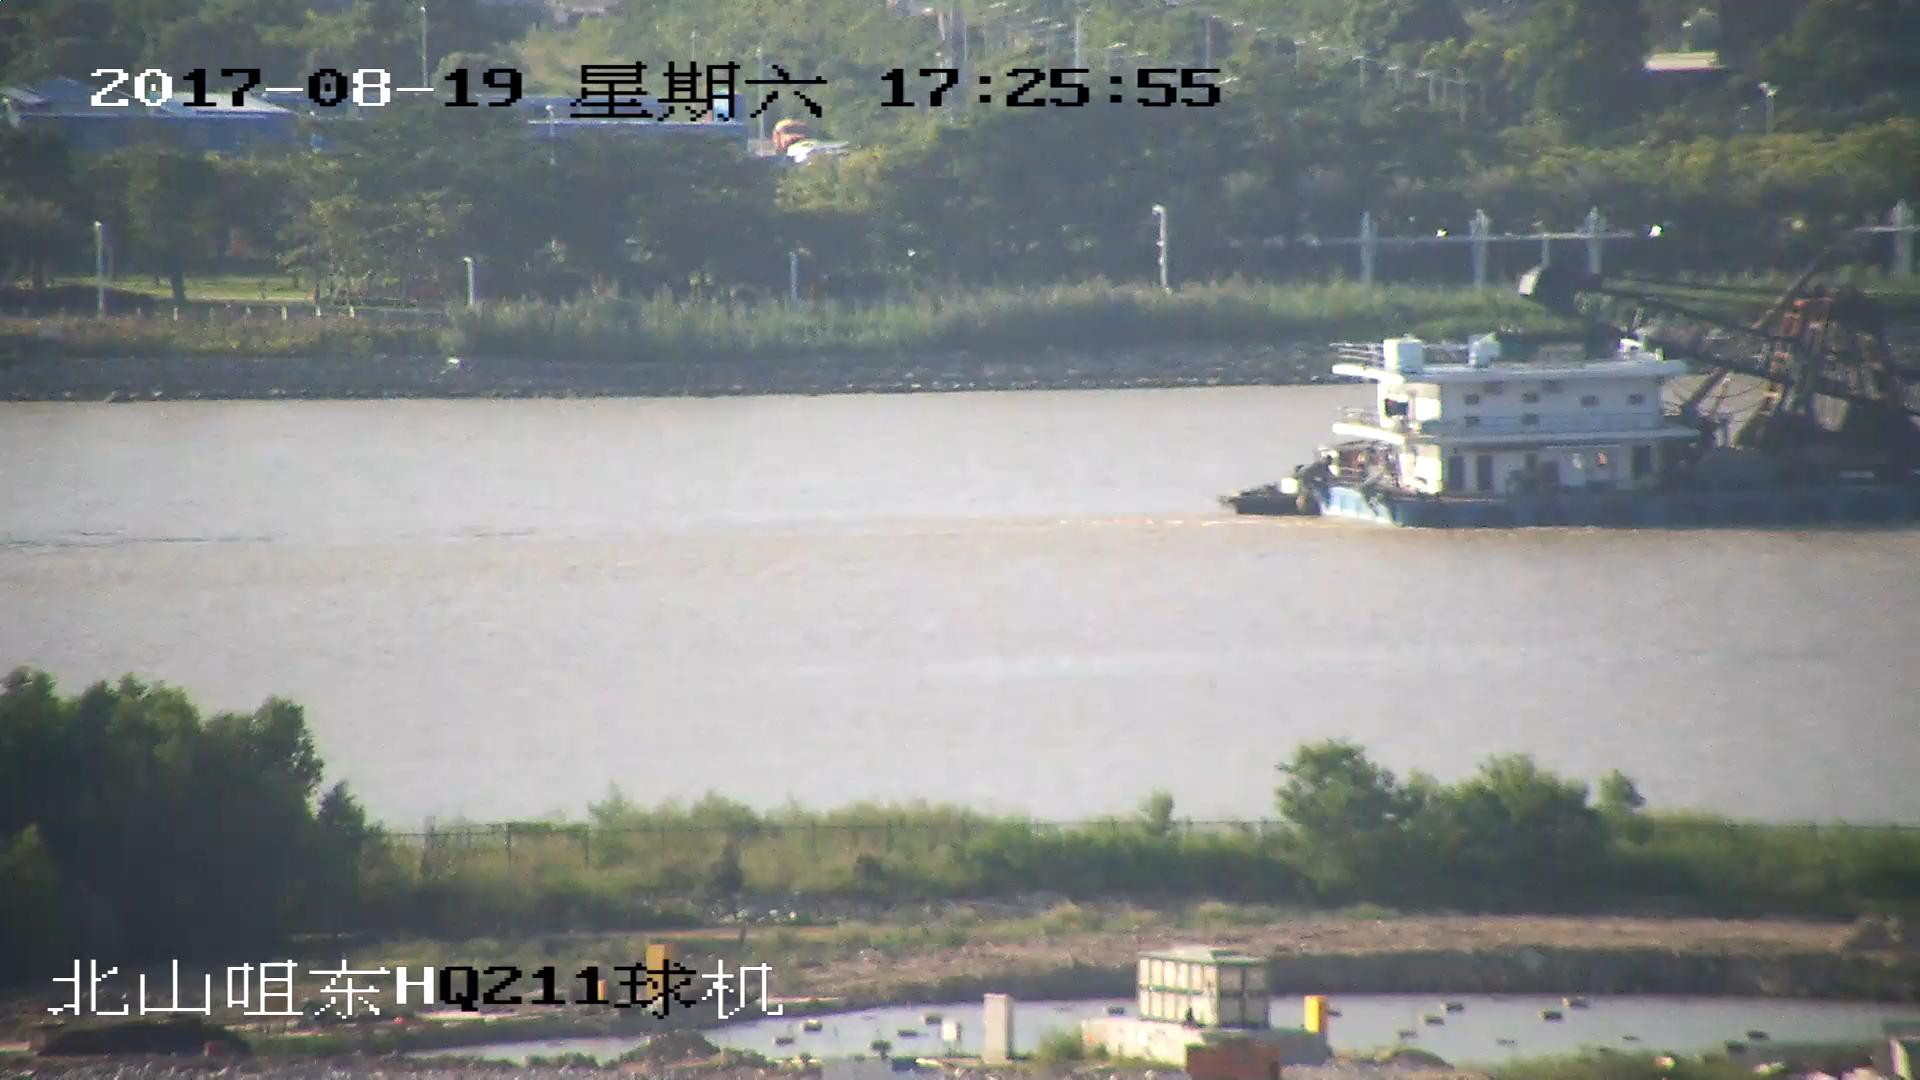fishing boat: (1227, 253, 1920, 530)
